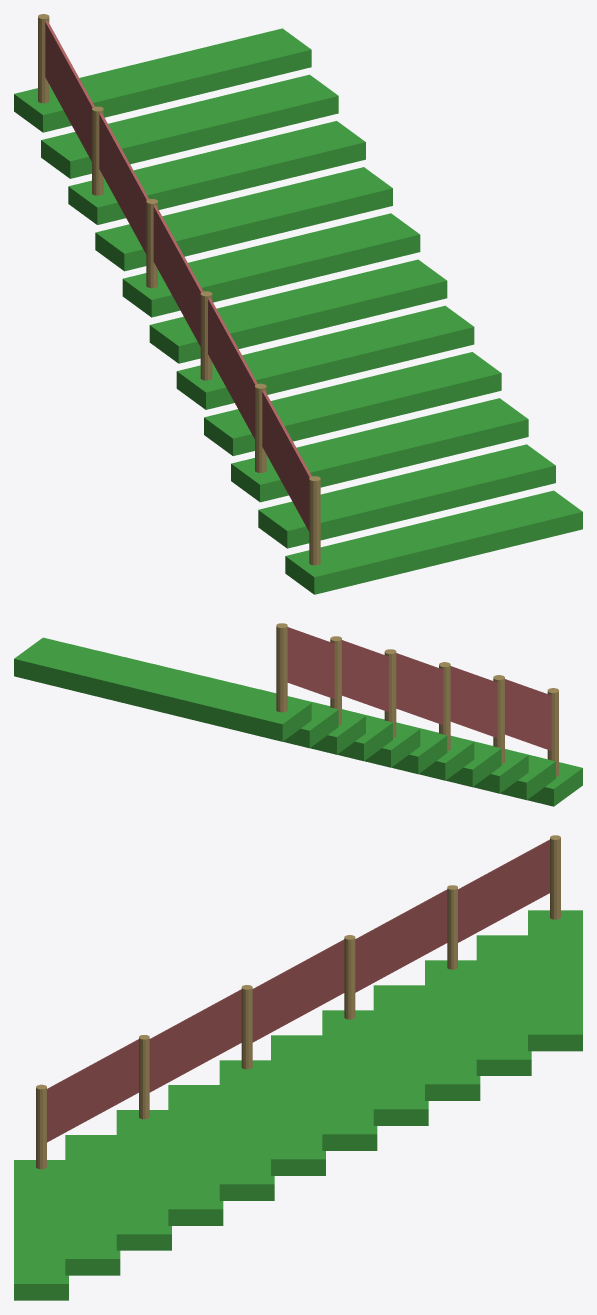
File: StairCase.fbx
The picture shows the model from 3 angles, top to bottom: view 1: azimuth 30°, elevation 25°; view 2: azimuth 150°, elevation 25°; view 3: azimuth 270°, elevation 25°; orthographic projection. The views are drawn at different scales.
Parts seen in each view (by area): view 1: StairCase; view 2: StairCase; view 3: StairCase.
Part boxes in pixels (x1,y1,x2,y2): StairCase: [14, 14, 582, 594]; StairCase: [14, 623, 582, 806]; StairCase: [14, 835, 582, 1300].
Size of the model in its own units: 8 by 10.4 by 15.5.
